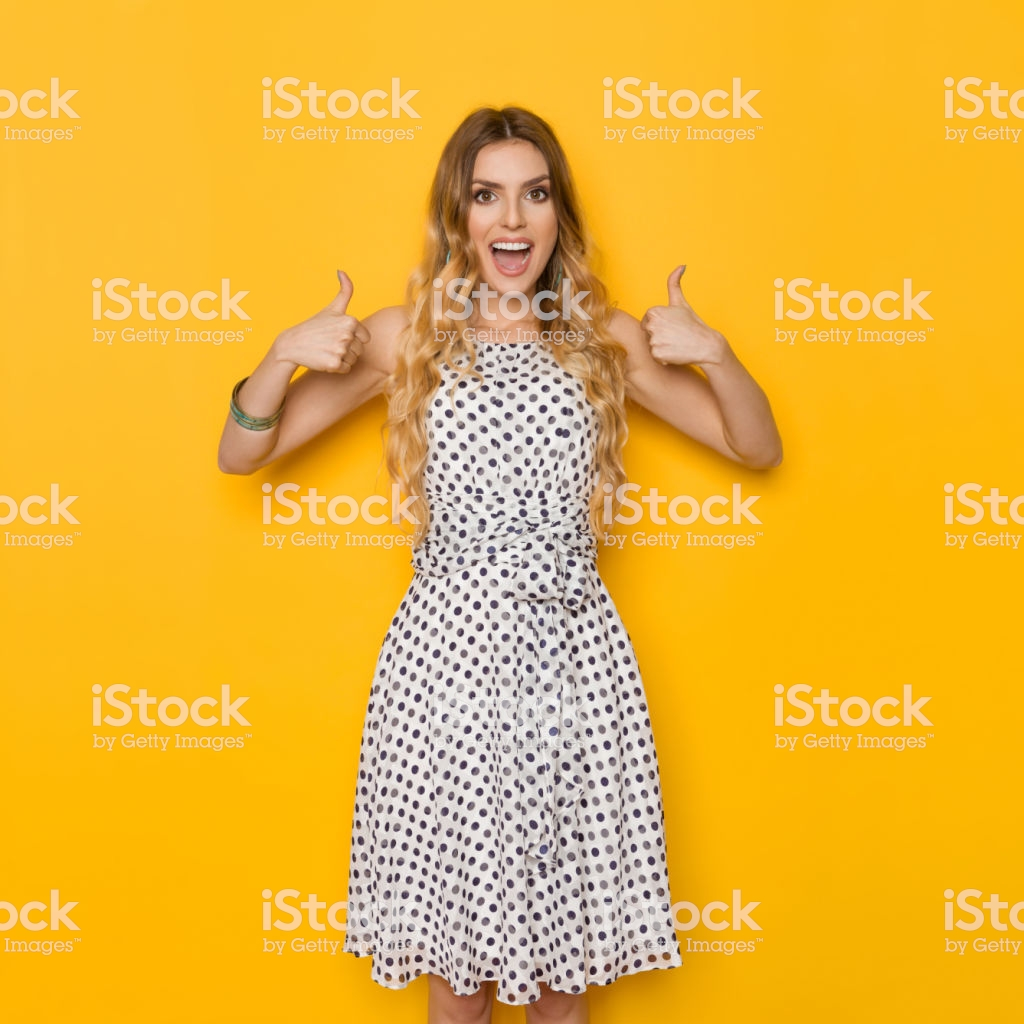thumbsup: (297, 268, 373, 375), (640, 263, 699, 370)
